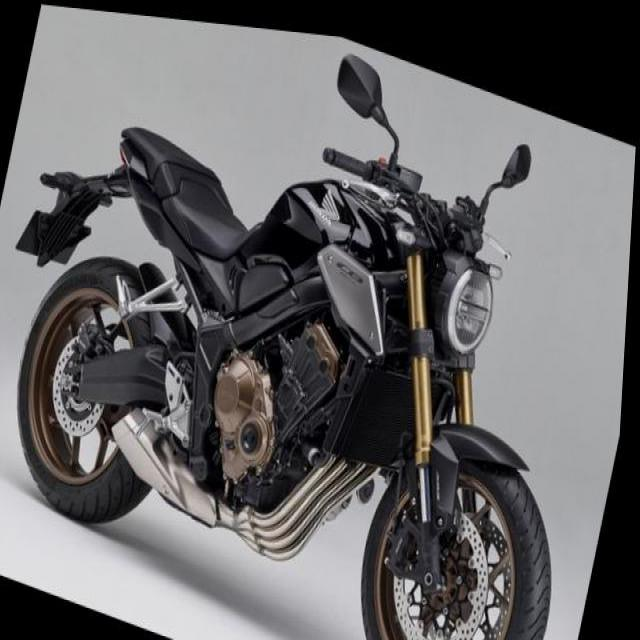CB650R: (0, 64, 629, 639)
